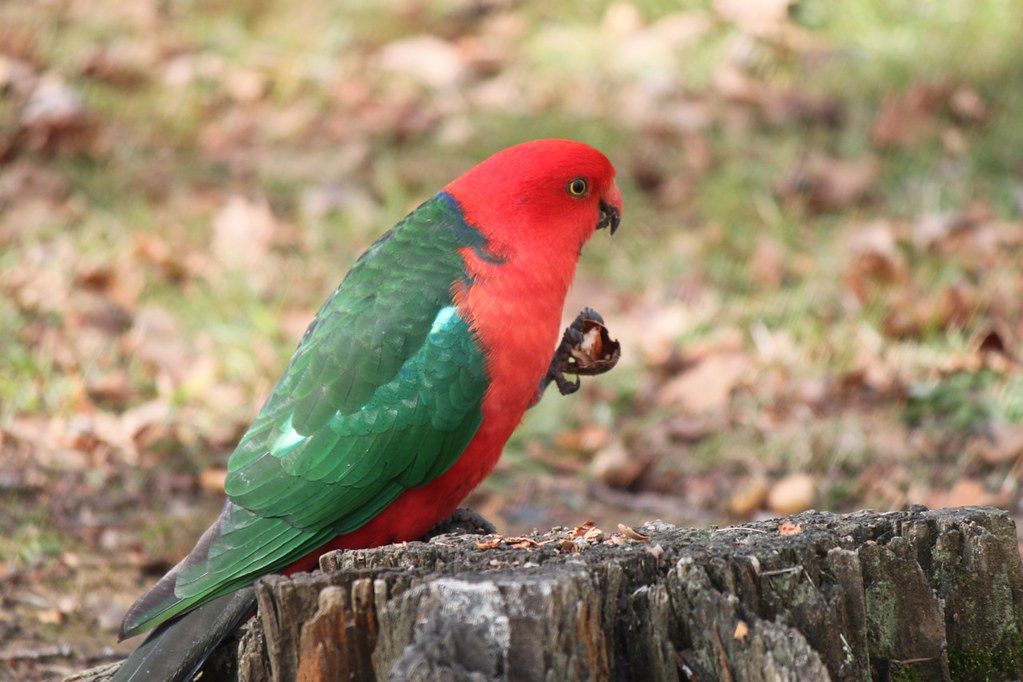bird: (103, 139, 638, 655)
